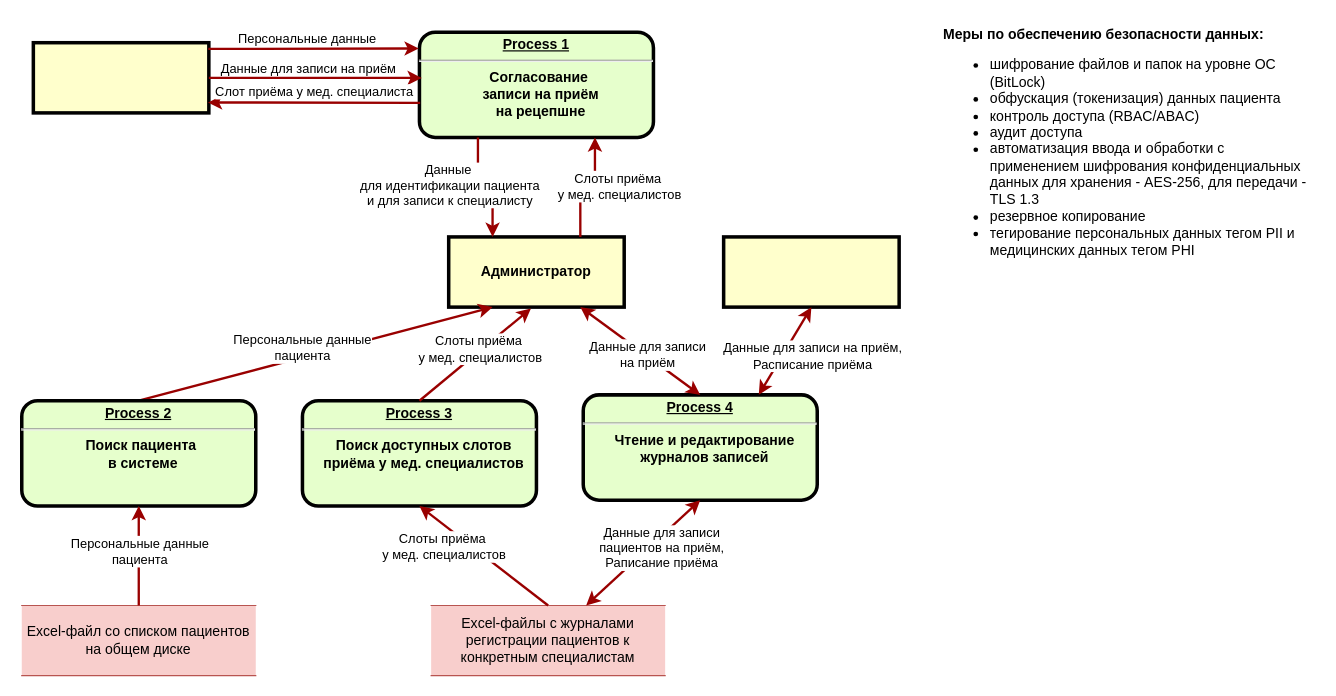
This 1336x696 diagram has some shape labels left out. Each missing label, with the centre of its shape:
Медицинский специалист: point (810, 271)
Пациент: point (120, 77)
